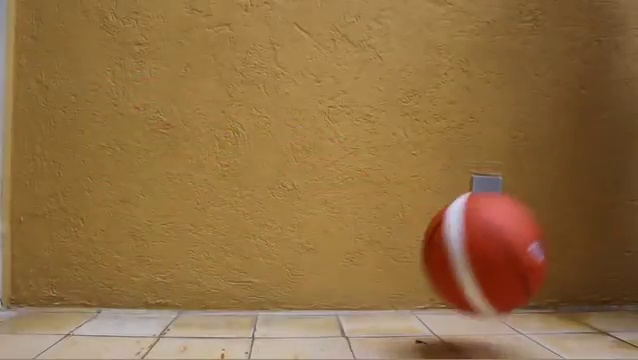ball: (420, 192, 548, 317)
